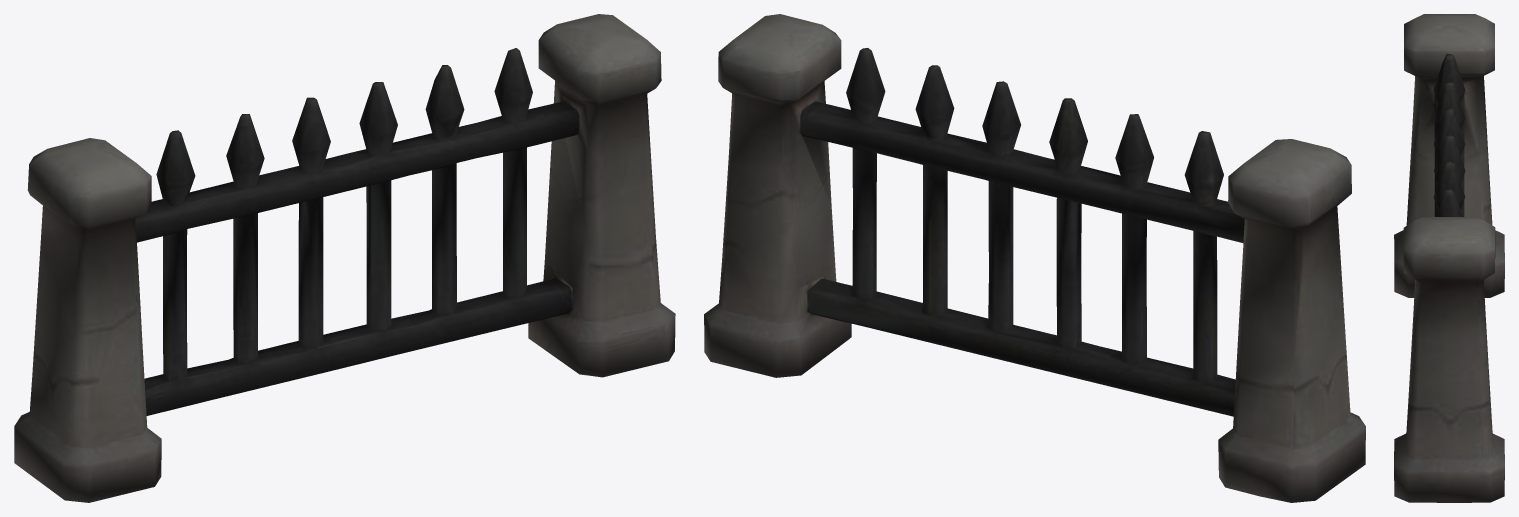
Rendered from lg-iron-fence.glb.
3 renders of one model, left to right at view 1: azimuth 30°, elevation 25°; view 2: azimuth 150°, elevation 25°; view 3: azimuth 270°, elevation 25°, orthographic. The views are drawn at different scales.
Visible parts, largest first — view 1: geometry_0; view 2: geometry_0; view 3: geometry_0.
Part boxes in pixels (left/top/right/bottom): geometry_0: left=14, top=14, right=675, bottom=502; geometry_0: left=704, top=14, right=1365, bottom=502; geometry_0: left=1394, top=14, right=1504, bottom=502.
Size of the model in its own units: 1 by 0.4977 by 0.1925.
Materials: 1 (1 with a texture image).
